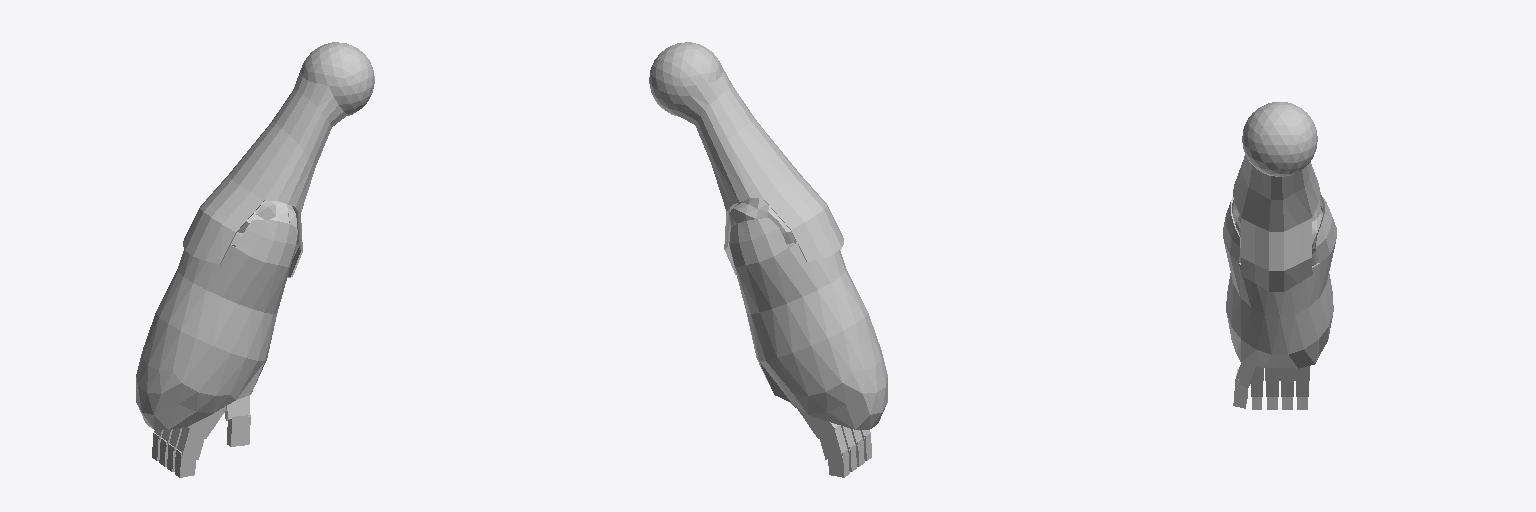
Rendered from right_arm.obj.
3 views of the same model, side by side, from view 1: azimuth 30°, elevation 25°; view 2: azimuth 150°, elevation 25°; view 3: azimuth 270°, elevation 25° (orthographic).
Visible parts, largest first — view 1: Right_Arm; view 2: Right_Arm; view 3: Right_Arm.
Part boxes in pixels (x1,y1,x2,y2): Right_Arm: (136, 42, 374, 477); Right_Arm: (649, 42, 887, 477); Right_Arm: (1223, 102, 1336, 409).
Bounding box in the file's own units: 0.3232 × 0.5162 × 0.1392.